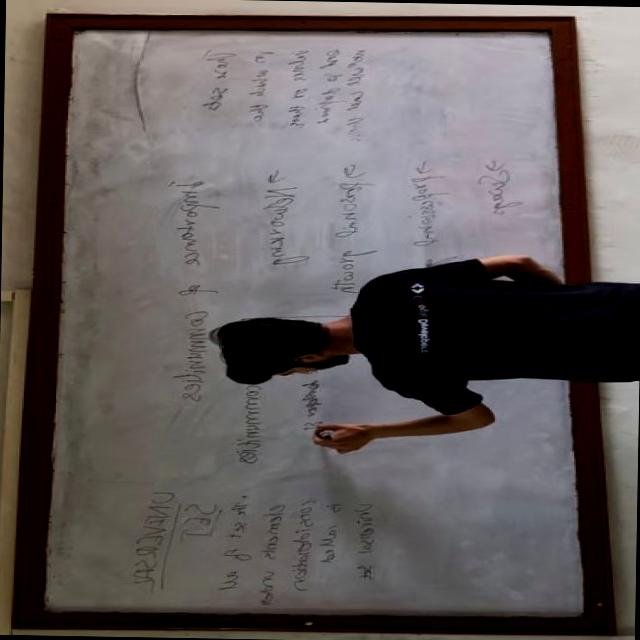Instructor: (206, 266, 634, 404)
White-board: (30, 22, 601, 628)
